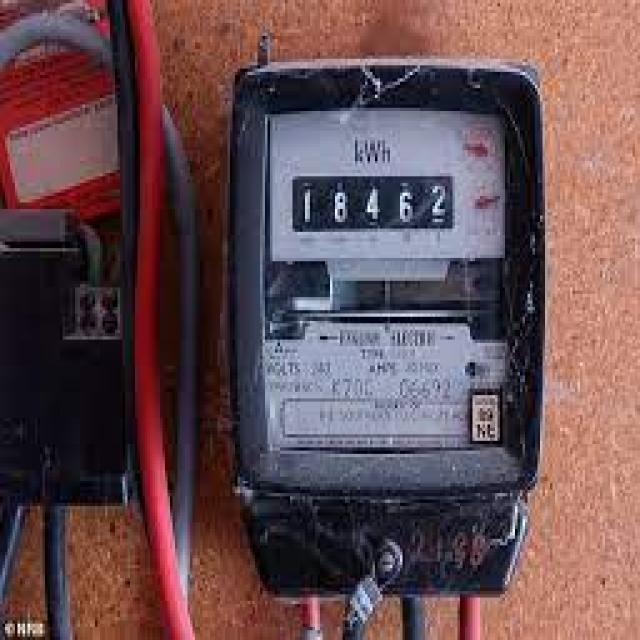1: (297, 182, 321, 228)
2: (428, 181, 450, 225)
4: (364, 181, 388, 224)
6: (394, 184, 422, 226)
8: (330, 186, 354, 227)
analog meter: (294, 178, 456, 233)
